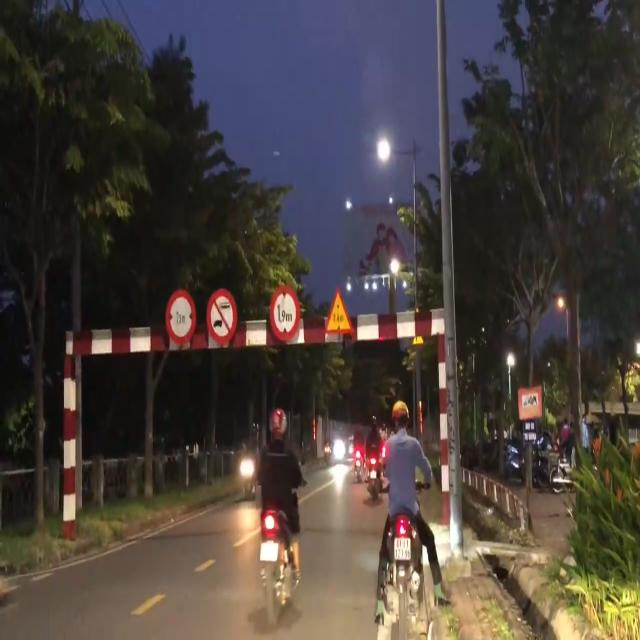Bien bao cam xe oto khach va xe oto tai: (205, 282, 240, 345)
Bien bao chieu cao tinh khong thuc te: (323, 282, 356, 338)
Bien bao han che chieu cao: (267, 278, 303, 351)
